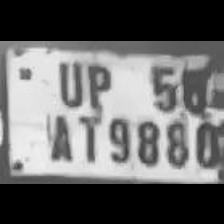0: (190, 114, 220, 170)
5: (146, 61, 178, 109)
8: (132, 113, 162, 166), (162, 113, 190, 169)
9: (104, 111, 132, 164)
A: (42, 108, 74, 162)
P: (80, 58, 114, 108)
T: (72, 110, 102, 162)
U: (52, 55, 84, 106)
